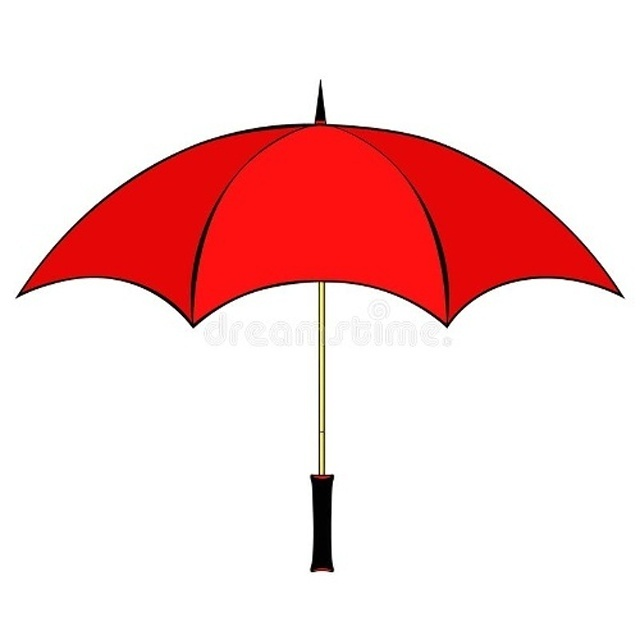umbrella: (11, 94, 628, 578)
